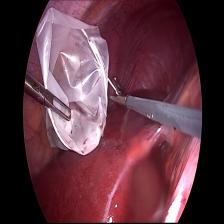Grasper: (32, 82, 72, 120), (108, 73, 138, 109)
Specimen Bag: (35, 7, 113, 156)
